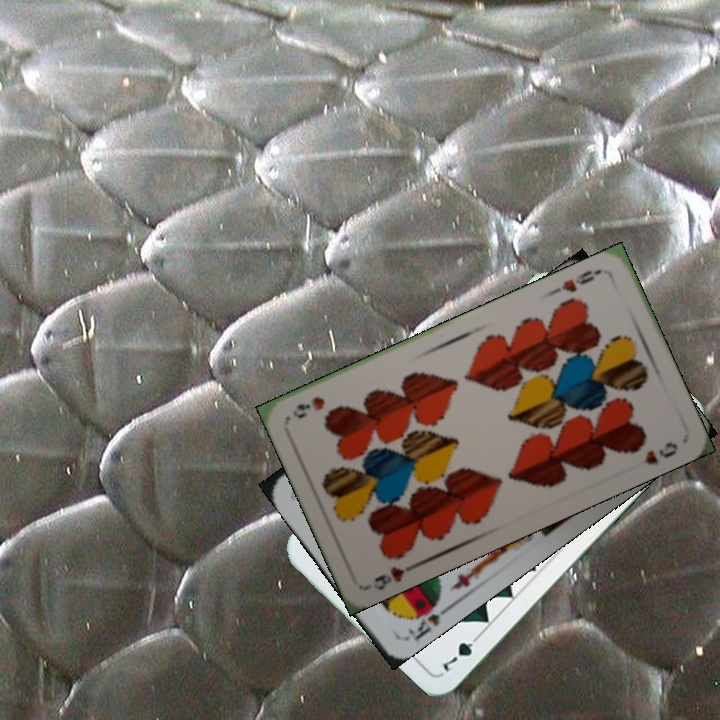G7: (438, 628, 485, 675)
H9: (549, 265, 604, 296), (370, 559, 420, 593)
SK: (402, 592, 453, 643)
